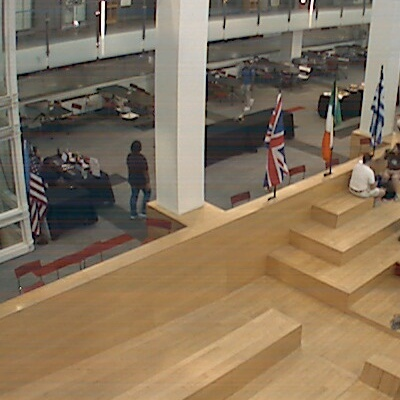head: (129, 139, 145, 153), (361, 152, 375, 166), (387, 141, 400, 155), (241, 59, 255, 70)
